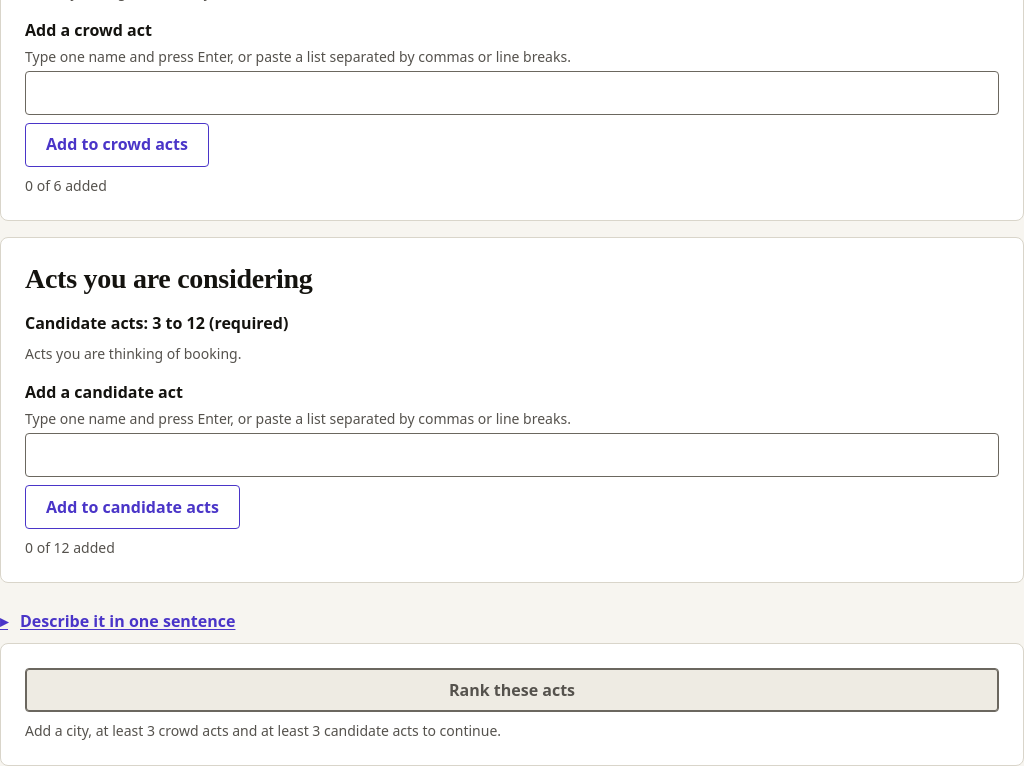
one-sentence intake in the room form › an empty description gives a field error and sends nothing
The image size is (1024, 766).
(page scrolled)
What coordinates should you click on to do the following:
click the heading "Describe it in one sentence"
I would click on:
 (128, 621)
Its box is x1=20 y1=610 x2=236 y2=632.
(page scrolled)
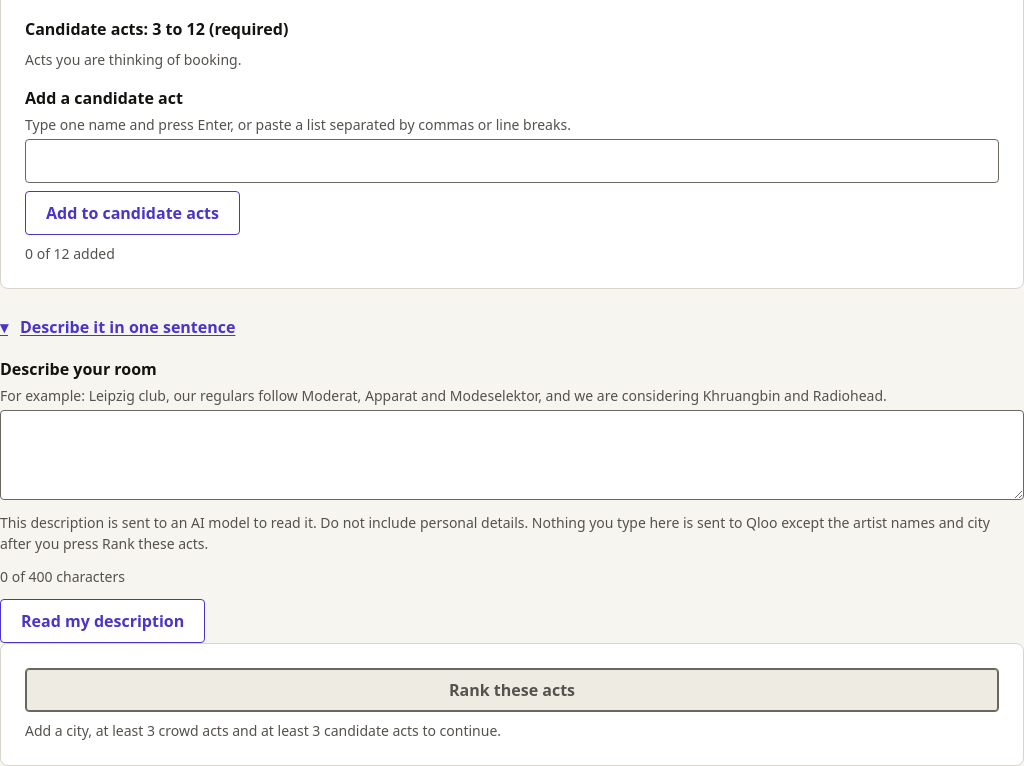
What coordinates should you click on to do the following:
click the button "Read my description"
I would click on:
 (103, 621)
Its box is x1=0 y1=599 x2=205 y2=643.
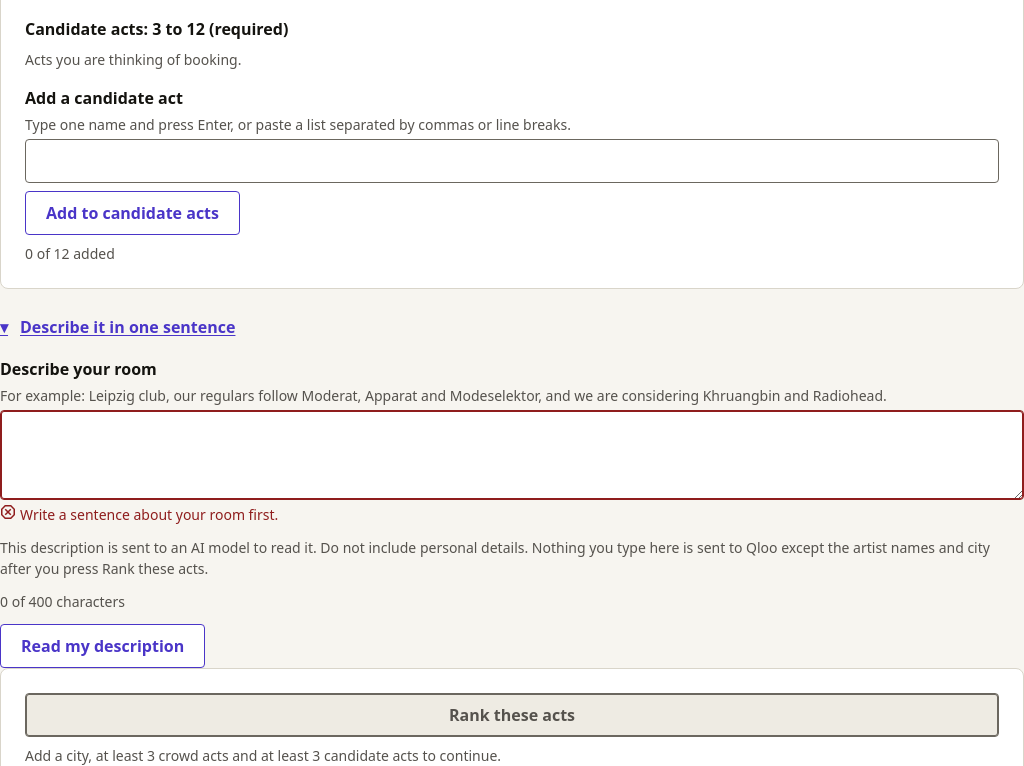
Check: the element with id "intake-sentence-error" reads "Write a sentence about your room first.", box x1=20 y1=505 x2=278 y2=524
